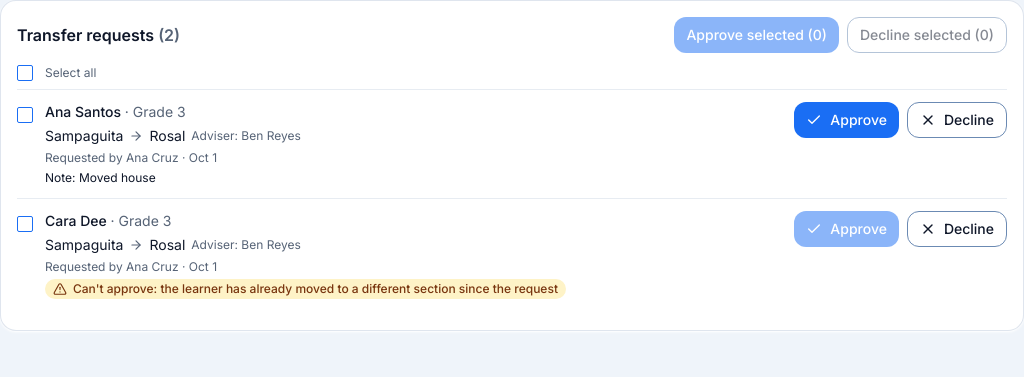
Test: TransferRequestsPanel — bulk approve › disables Approve selected when only stale rows are picked
Click the checkbox named "Select the request for Cara Dee".
click(25, 224)  # box [17, 216, 33, 232]
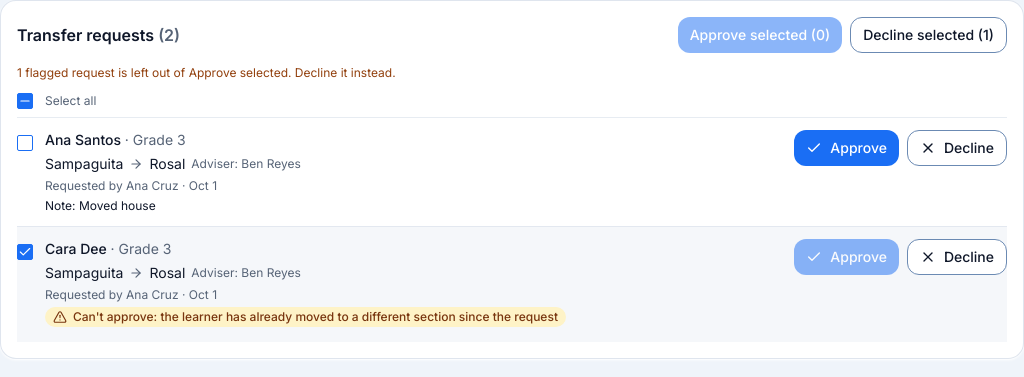
Check: the button "Approve selected (0)" is disabled, box [678, 17, 842, 53]
Check: the button "Decline selected (1)" is enabled, box [850, 17, 1007, 53]
